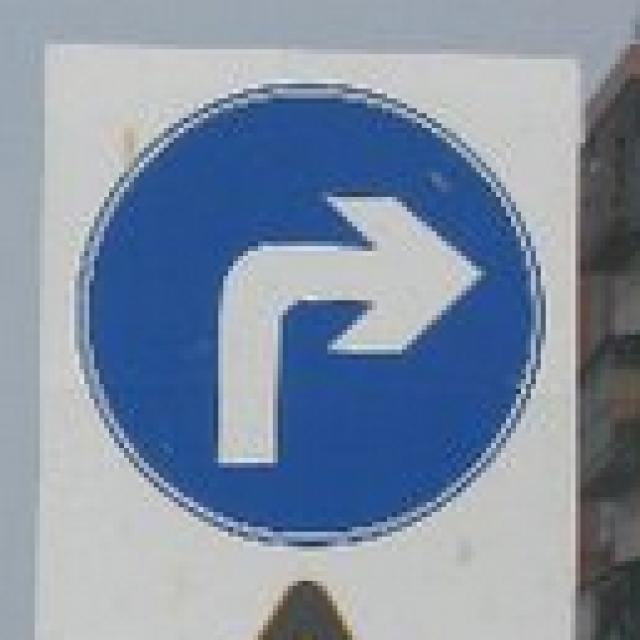Right: (68, 78, 555, 552)
